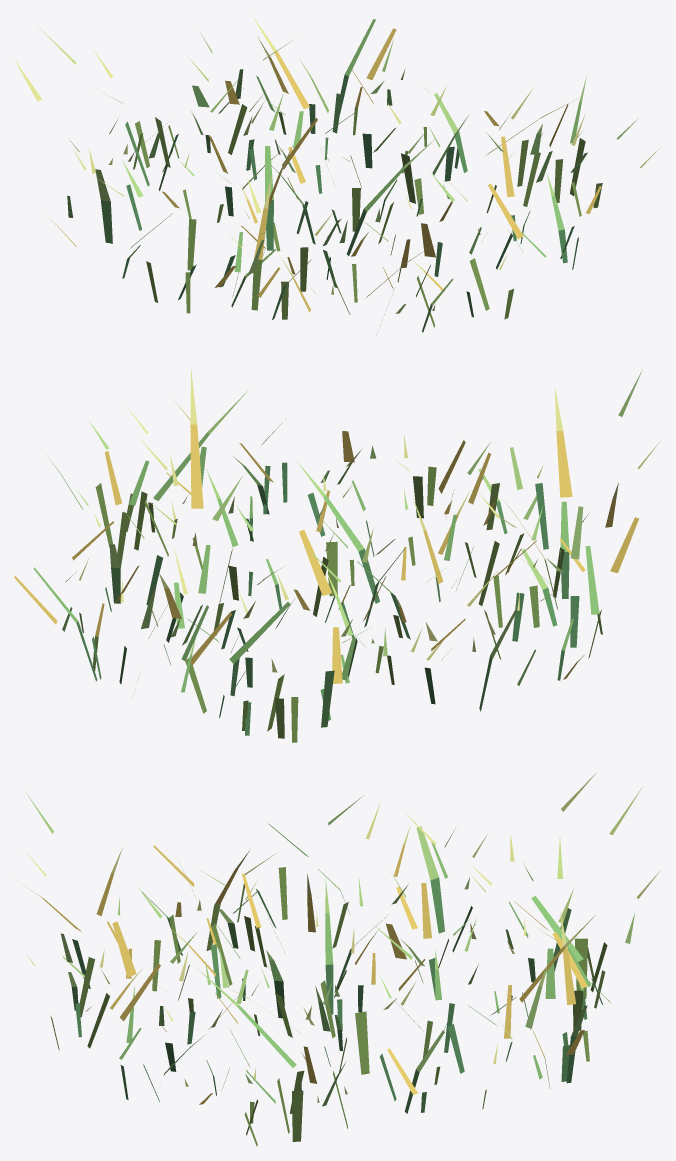
File: Grass_03_Golden_LOD1.glb
3 views of the same model, one above another, from view 1: azimuth 30°, elevation 25°; view 2: azimuth 150°, elevation 25°; view 3: azimuth 270°, elevation 25° (orthographic). The views are drawn at different scales.
Parts seen in each view (by area): view 1: Grass_03_Golden; view 2: Grass_03_Golden; view 3: Grass_03_Golden.
Part boxes in pixels (x1=…): Grass_03_Golden: x1=15, y1=15, x2=659, y2=332; Grass_03_Golden: x1=14, y1=368, x2=659, y2=742; Grass_03_Golden: x1=22, y1=772, x2=660, y2=1146.
Size of the model in its own units: 2.25 by 0.6374 by 2.23.
